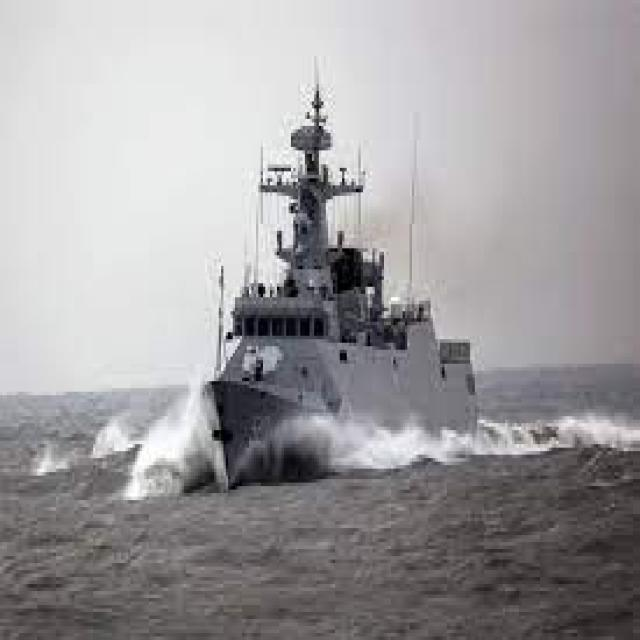navalvessels: (170, 90, 503, 490)
